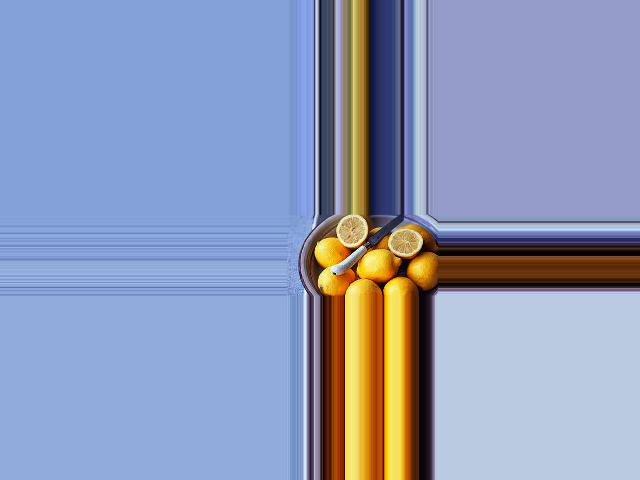lemon: (404, 247, 438, 290)
